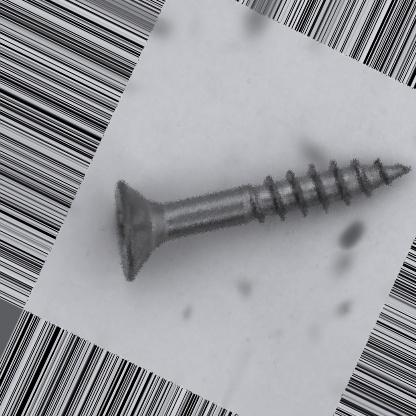metal: (114, 158, 411, 282)
